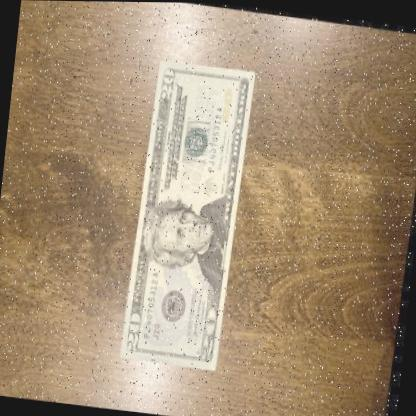dollar_front: (121, 55, 256, 370)
